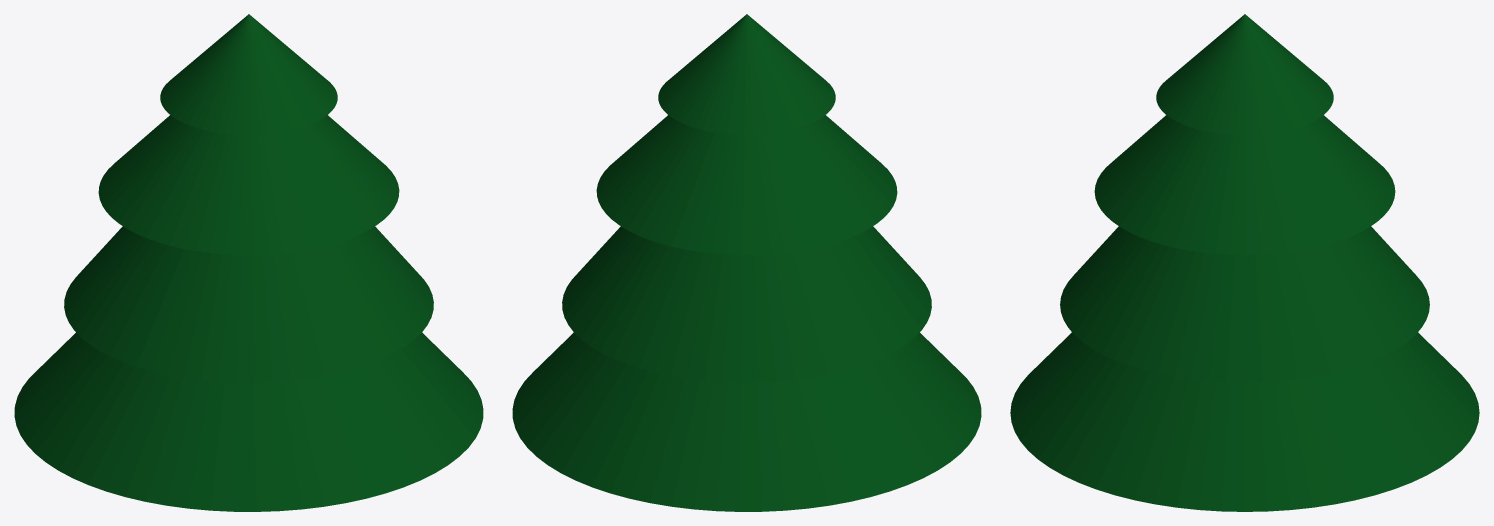
Rendered from tree1.fbx.
3 views of the same model, side by side, from view 1: azimuth 30°, elevation 25°; view 2: azimuth 150°, elevation 25°; view 3: azimuth 270°, elevation 25° (orthographic).
Visible parts, largest first — view 1: Tree; view 2: Tree; view 3: Tree.
Boxes of the visible parts, box(x1,y1,x2,y2) form: Tree: box(14, 14, 483, 511); Tree: box(512, 14, 981, 511); Tree: box(1010, 14, 1479, 511).
Size of the model in its own units: 604 by 681 by 604.
